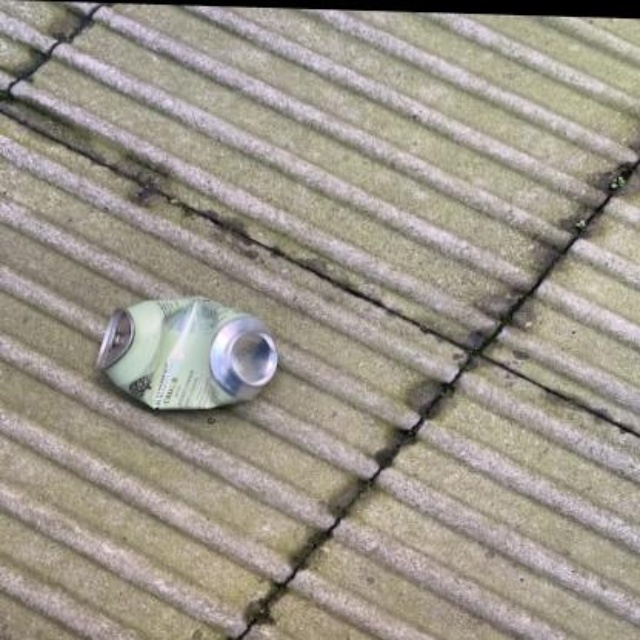trash: (97, 297, 277, 408)
